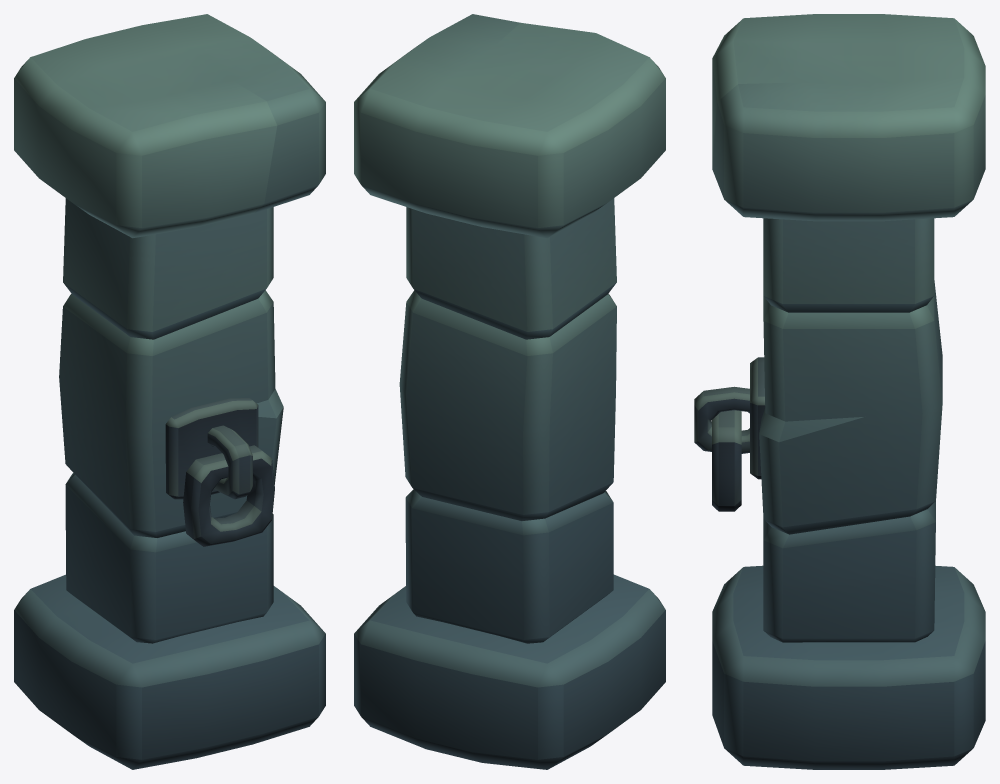
Rendered from pillar1_LOD_setup.fbx.
The picture shows the model from 3 angles, left to right: view 1: azimuth 30°, elevation 25°; view 2: azimuth 150°, elevation 25°; view 3: azimuth 270°, elevation 25°; orthographic projection. The views are drawn at different scales.
Visible parts, largest first — view 1: pillar1_LOD0; view 2: pillar1_LOD0; view 3: pillar1_LOD0.
Part boxes in pixels (x1,y1,x2,y2): pillar1_LOD0: [14, 14, 325, 769]; pillar1_LOD0: [354, 14, 665, 769]; pillar1_LOD0: [694, 14, 985, 769].
Size of what is drawn, in the model's own units: 113 by 305 by 120.
